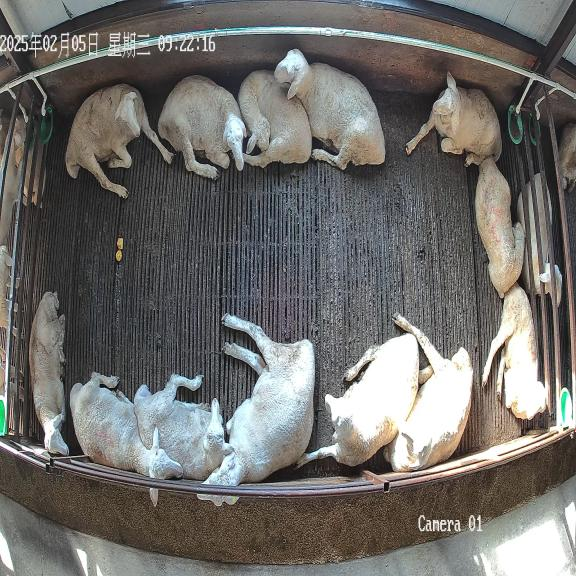lying: (197, 314, 315, 506), (297, 334, 420, 467), (383, 315, 473, 472), (274, 49, 385, 169), (65, 84, 173, 198), (70, 372, 183, 479), (134, 375, 233, 480), (158, 75, 246, 179), (406, 72, 502, 166), (482, 284, 547, 420), (238, 70, 311, 168), (475, 158, 524, 298), (29, 292, 69, 454)
